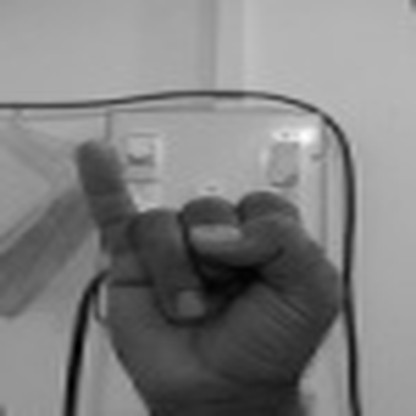i: (71, 135, 353, 406)
